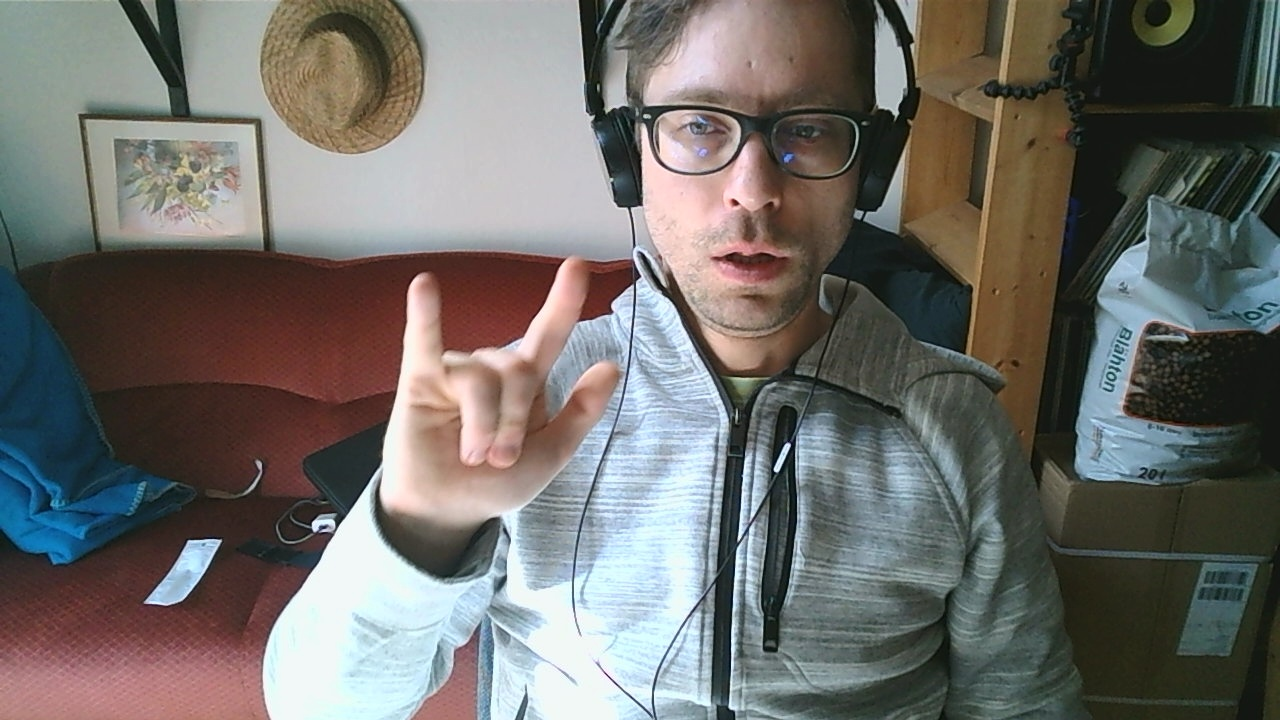iloveyou: (371, 255, 622, 527)
